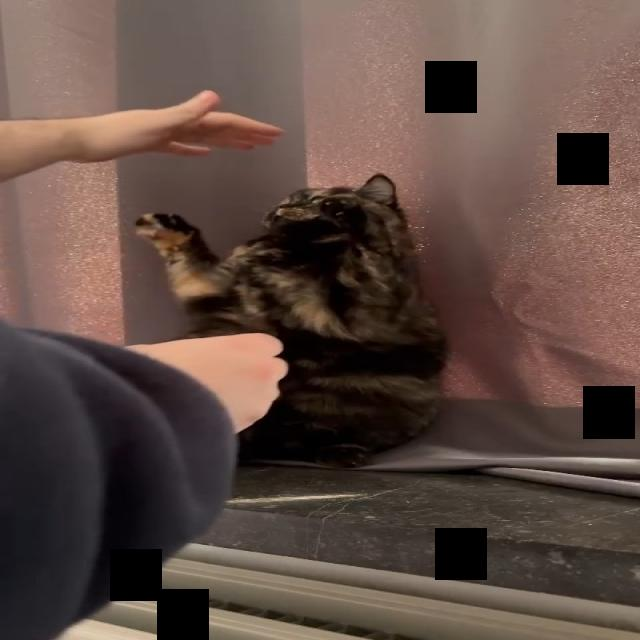authorized: (132, 172, 449, 469)
